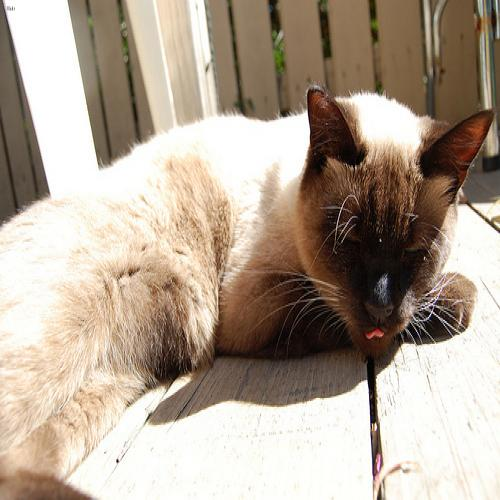siamese: (270, 42, 500, 384)
